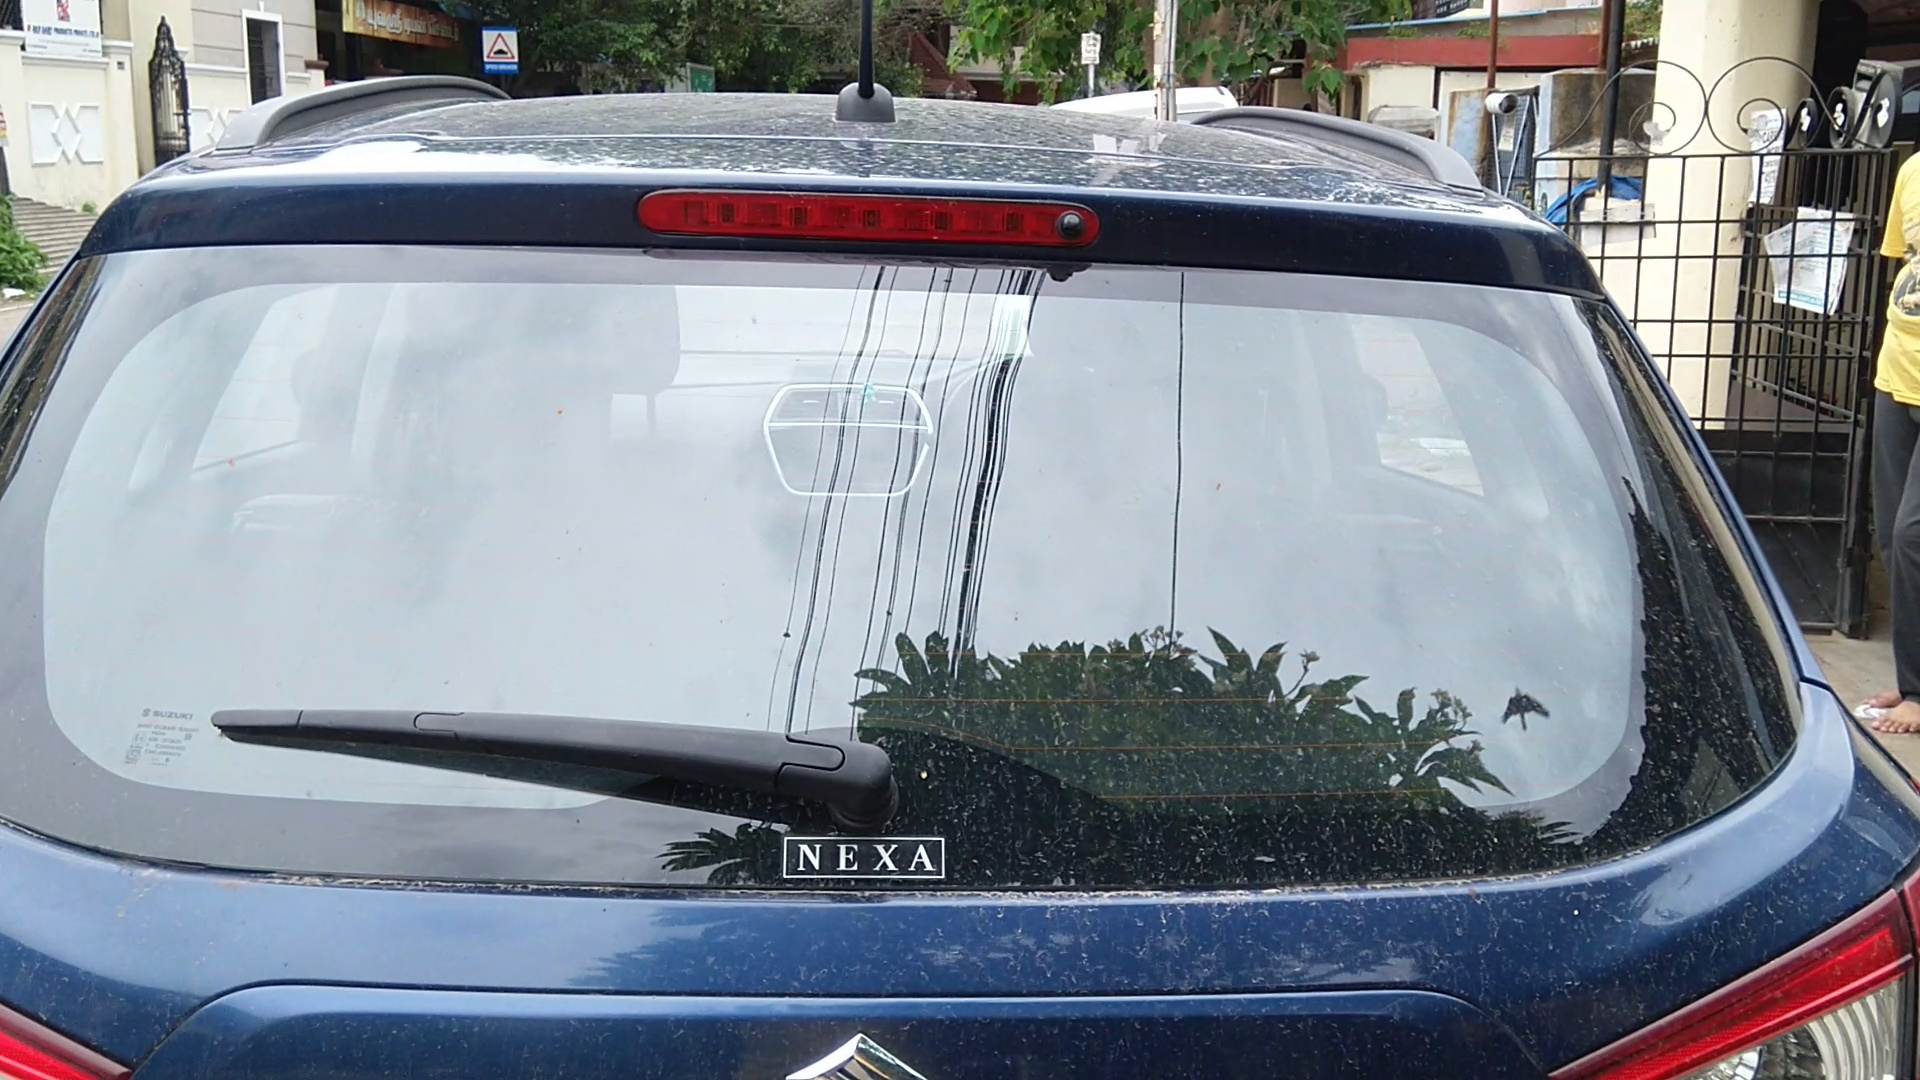rear_camera: (1040, 202, 1105, 252)
